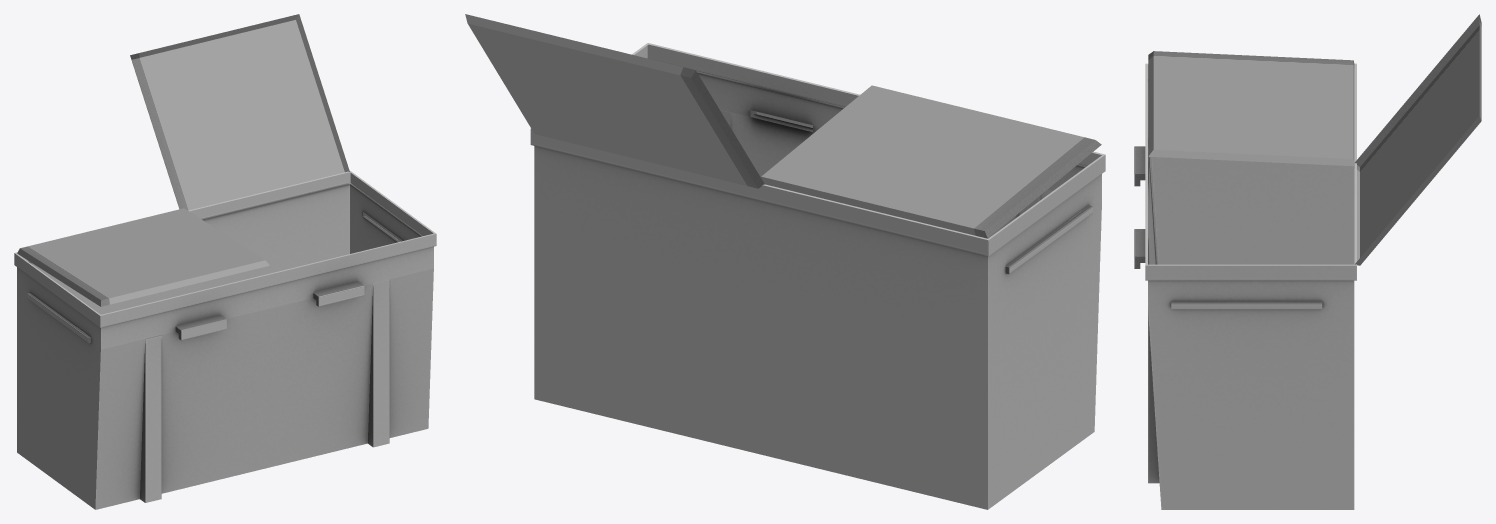
The model's file is trashbox.dae.
3 renders of one model, left to right at view 1: azimuth 30°, elevation 25°; view 2: azimuth 150°, elevation 25°; view 3: azimuth 270°, elevation 25°, orthographic. The views are drawn at different scales.
Parts seen in each view (by area): view 1: Cube, Plane, Plane.001; view 2: Cube, Plane.001, Plane; view 3: Cube, Plane.001, Plane.
Boxes of the visible parts, x1,y1,x2,y2 form: Cube: (14,171,436,509); Plane: (130,14,349,210); Plane.001: (17,208,269,306); Cube: (530,43,1105,509); Plane.001: (760,85,1101,238); Plane: (465,14,764,188); Cube: (1134,63,1356,509); Plane.001: (1148,51,1354,166); Plane: (1354,14,1481,265).
Bounding box in the file's own units: 7.12 × 5.13 × 6.43.
Materials: 2 (2 with a texture image).
